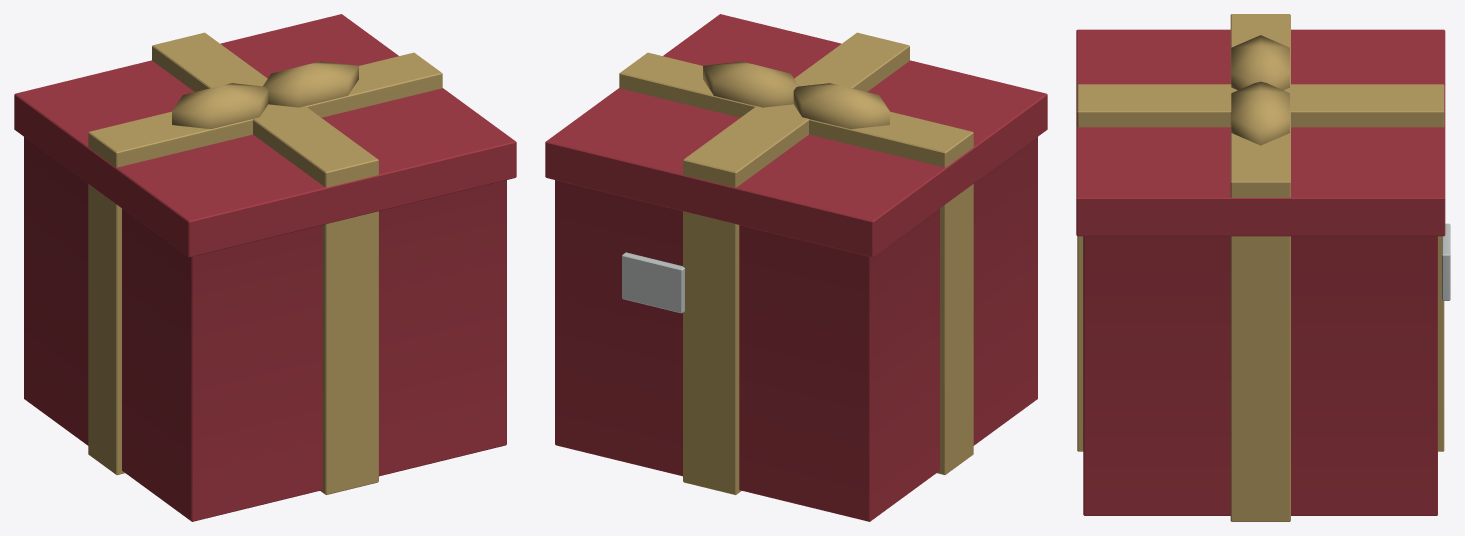
Rendered from gift_box_red_low.glb.
3 renders of one model, left to right at view 1: azimuth 30°, elevation 25°; view 2: azimuth 150°, elevation 25°; view 3: azimuth 270°, elevation 25°, orthographic. The views are drawn at different scales.
Size of the model in its own units: 0.5408 by 0.552 by 0.5066.
